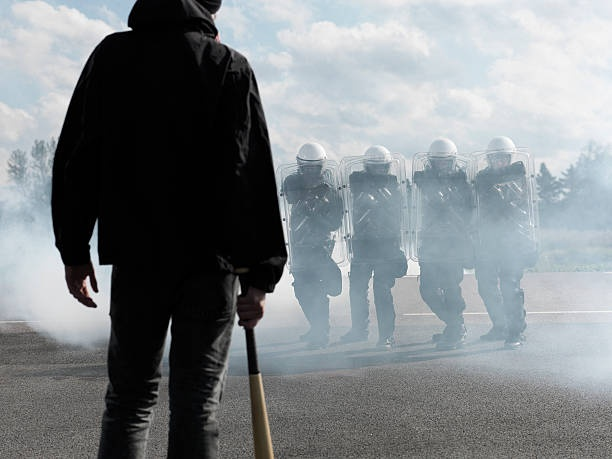bita: (240, 291, 276, 459)
